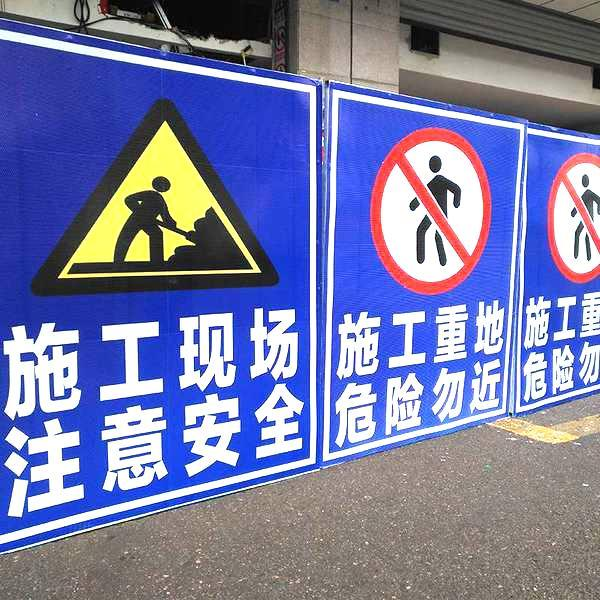sign: (2, 52, 324, 516), (330, 78, 600, 440)
